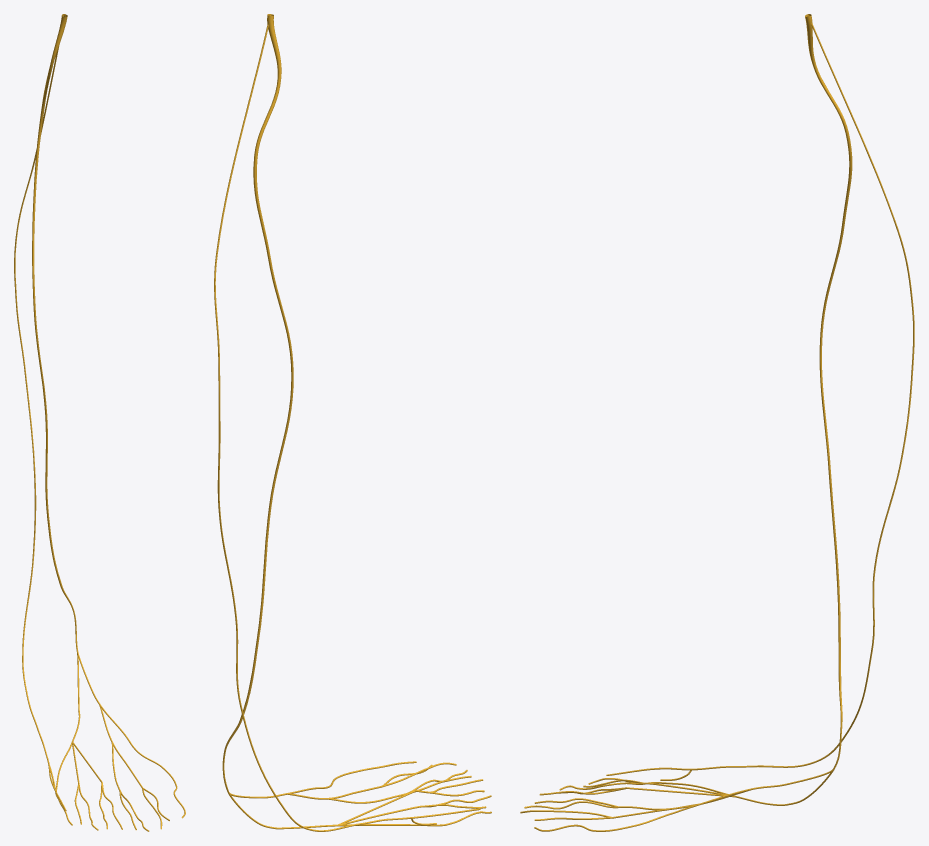
Rendered from nervoso-tibial-nerve-r.glb.
3 views of the same model, side by side, from view 1: azimuth 30°, elevation 25°; view 2: azimuth 150°, elevation 25°; view 3: azimuth 270°, elevation 25° (orthographic). The views are drawn at different scales.
Visible parts, largest first — view 1: Tibial nerve.r, Sural nerve.r, Proper plantar digital branches of medial plantar nerve.r, Proper plantar digital branches of lateral plantar nerve.r; view 2: Tibial nerve.r, Sural nerve.r, Proper plantar digital branches of medial plantar nerve.r, Proper plantar digital branches of lateral plantar nerve.r, Medial sural cutaneous nerve.r, Common plantar digital branches of lateral plantar nerve.r; view 3: Tibial nerve.r, Sural nerve.r, Proper plantar digital branches of medial plantar nerve.r.
Boxes of the visible parts, x1=… form: Tibial nerve.r: x1=32, y1=14, x2=77, y2=651; Sural nerve.r: x1=14, y1=161, x2=66, y2=811; Proper plantar digital branches of medial plantar nerve.r: x1=119, y1=767, x2=185, y2=831; Proper plantar digital branches of lateral plantar nerve.r: x1=55, y1=782, x2=122, y2=830; Tibial nerve.r: x1=222, y1=14, x2=293, y2=792; Sural nerve.r: x1=214, y1=254, x2=480, y2=831; Proper plantar digital branches of medial plantar nerve.r: x1=337, y1=761, x2=471, y2=795; Proper plantar digital branches of lateral plantar nerve.r: x1=416, y1=779, x2=491, y2=826; Medial sural cutaneous nerve.r: x1=216, y1=15, x2=271, y2=254; Common plantar digital branches of lateral plantar nerve.r: x1=338, y1=790, x2=435, y2=826; Tibial nerve.r: x1=805, y1=14, x2=852, y2=769; Sural nerve.r: x1=606, y1=219, x2=914, y2=780; Proper plantar digital branches of medial plantar nerve.r: x1=520, y1=798, x2=632, y2=831.
Bounding box in the file's own units: 0.0899 × 0.5336 × 0.233.
